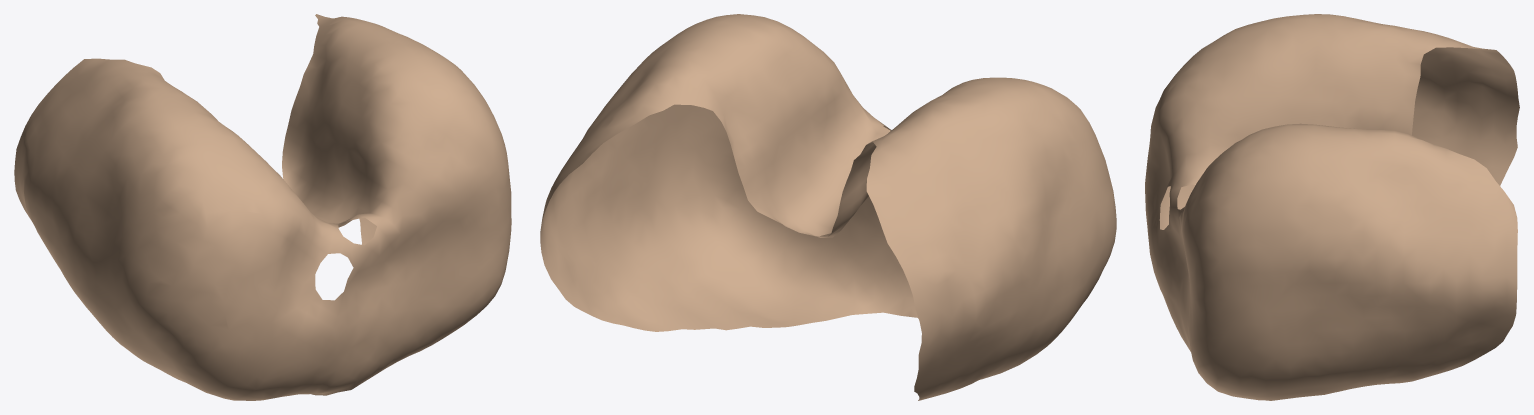
3 views of the same model, side by side, from view 1: azimuth 30°, elevation 25°; view 2: azimuth 150°, elevation 25°; view 3: azimuth 270°, elevation 25° (orthographic). The views are drawn at different scales.
Visible parts, largest first — view 1: 膈筋膜; view 2: 膈筋膜; view 3: 膈筋膜.
Part boxes in pixels (x1=…): 膈筋膜: x1=14, y1=14, x2=511, y2=400; 膈筋膜: x1=540, y1=14, x2=1116, y2=400; 膈筋膜: x1=1145, y1=14, x2=1519, y2=400.
Bounding box in the file's own units: 0.3472 × 0.2348 × 0.2856.
